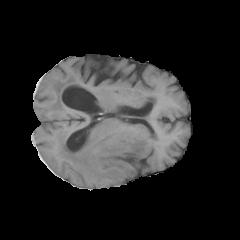glioma: (55, 130, 159, 181)
